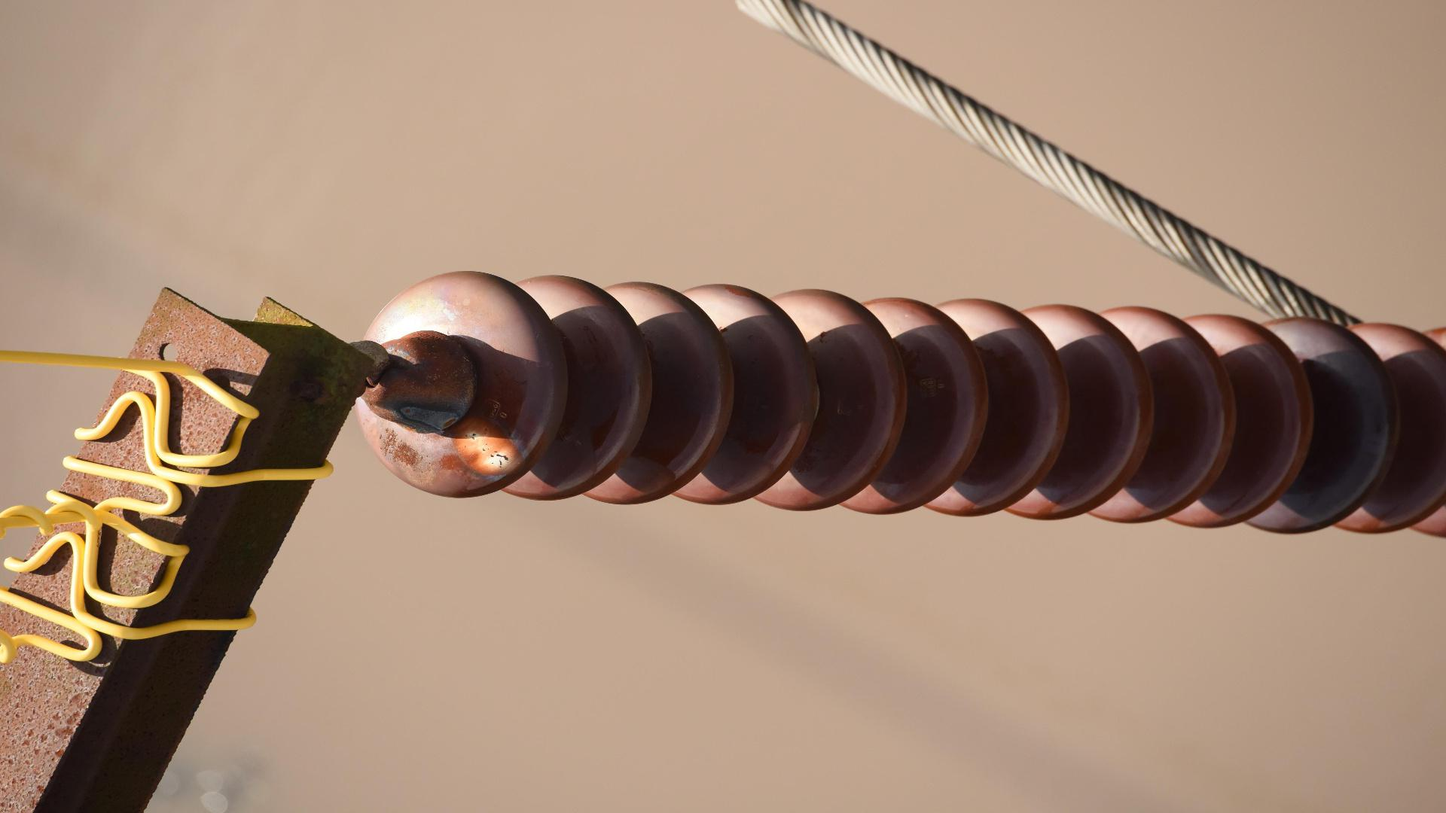insulator: (350, 265, 1446, 546)
insulator_flashover: (448, 412, 530, 482)
